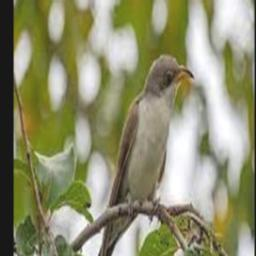Cuckoo: (76, 53, 194, 256)
